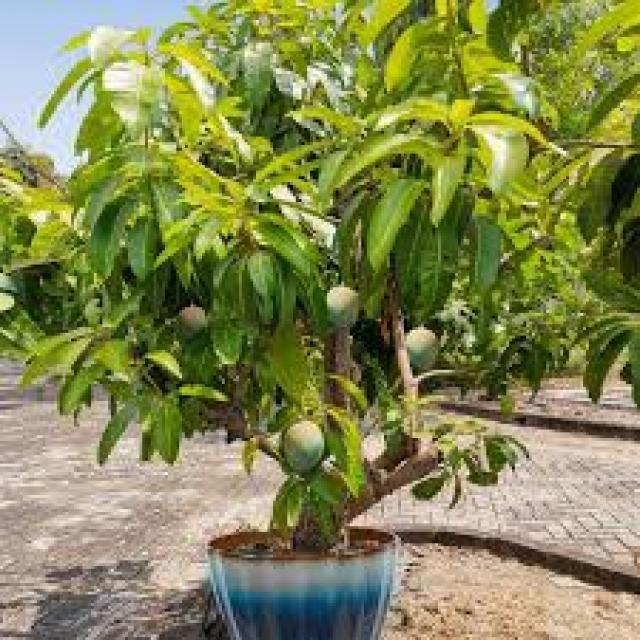Tree: (85, 32, 519, 622)
